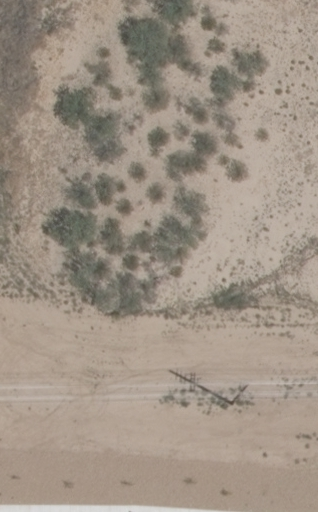DT: (220, 376, 252, 409)
